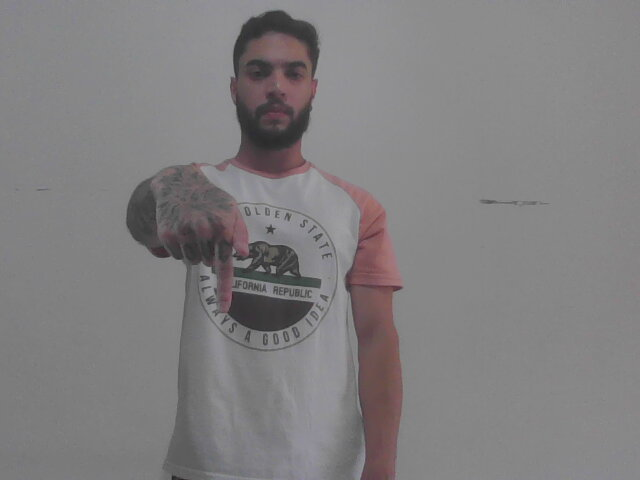q: (148, 170, 254, 316)
